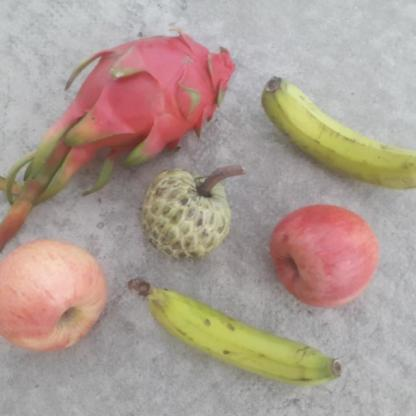annona: (138, 168, 236, 265)
apple: (1, 232, 111, 359), (266, 204, 383, 310)
banana: (128, 277, 344, 392), (260, 69, 416, 189)
pitaya: (72, 30, 237, 158)
